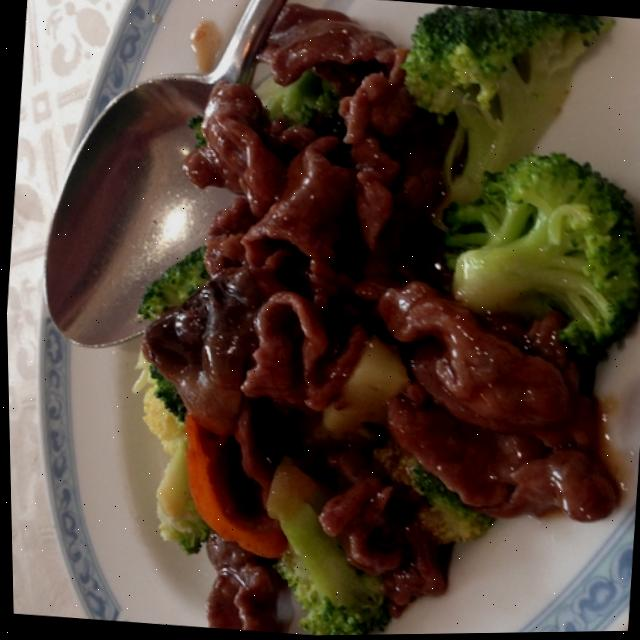牛肉菜式: (24, 0, 640, 640)
